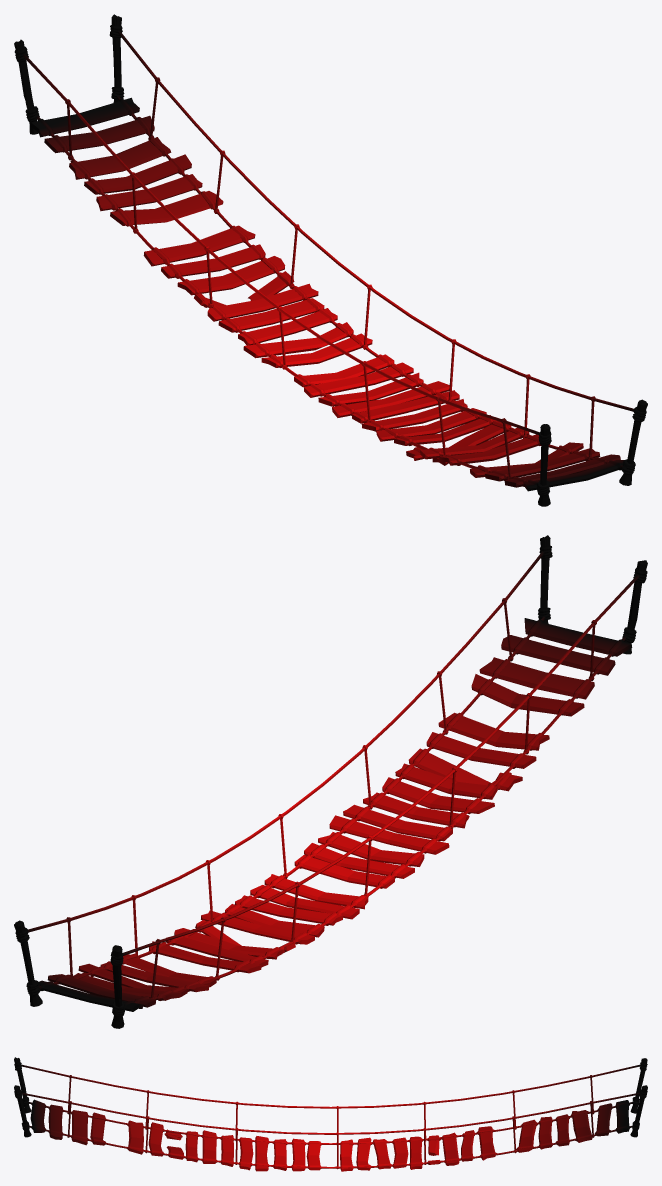
Rendered from SM_Bld_RopeBridge_01.glb.
3 renders of one model, top to bottom at view 1: azimuth 30°, elevation 25°; view 2: azimuth 150°, elevation 25°; view 3: azimuth 270°, elevation 25°, orthographic. The views are drawn at different scales.
Visible parts, largest first — view 1: SM_Bld_RopeBridge_01; view 2: SM_Bld_RopeBridge_01; view 3: SM_Bld_RopeBridge_01.
Part boxes in pixels (x1,y1,x2,y2): SM_Bld_RopeBridge_01: (14, 14, 647, 506); SM_Bld_RopeBridge_01: (14, 535, 647, 1028); SM_Bld_RopeBridge_01: (14, 1057, 647, 1171).
Bounding box in the file's own units: 1.95 × 2.43 × 15.56.
